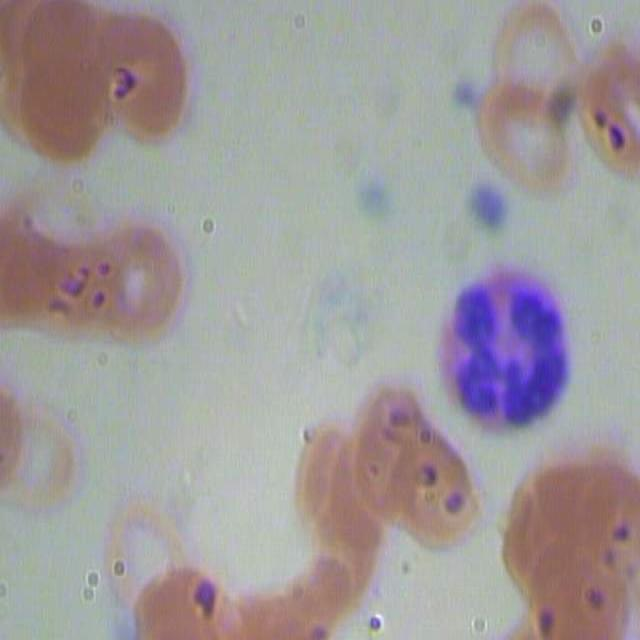RBC: (503, 442, 636, 640), (37, 201, 193, 352), (0, 0, 139, 167), (372, 404, 488, 552), (98, 1, 196, 146), (470, 72, 580, 199), (559, 28, 640, 182), (492, 0, 594, 119), (298, 427, 379, 559), (128, 565, 232, 640)
WBC: (444, 252, 582, 457)
platelets: (465, 171, 515, 243), (442, 70, 484, 123), (194, 577, 218, 614)
